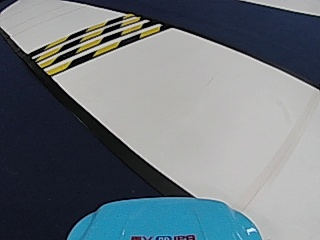bump: (37, 17, 152, 74)
